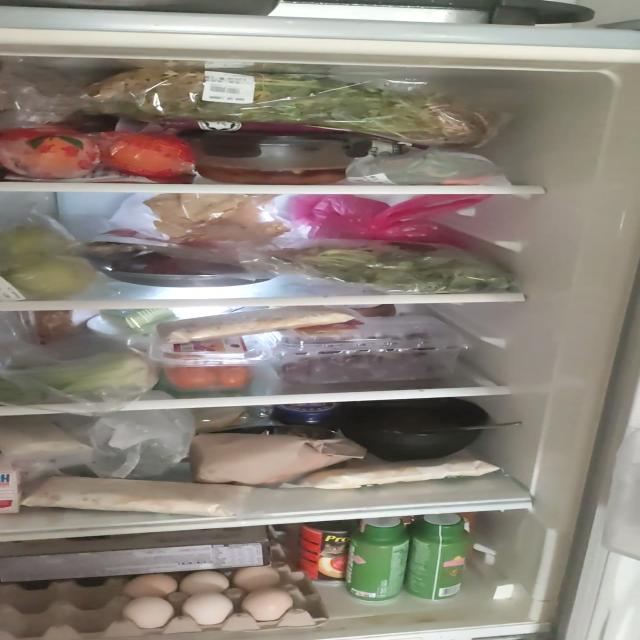apple: (0, 224, 97, 302)
egg: (0, 565, 329, 640)
grape: (276, 333, 447, 384)
leafy_greens: (85, 68, 488, 147), (272, 239, 513, 294)
orange: (0, 127, 194, 178)
tempeh: (21, 475, 255, 517), (157, 305, 356, 344), (305, 457, 501, 489)
unknown_bag: (287, 194, 494, 242), (81, 409, 196, 485)
